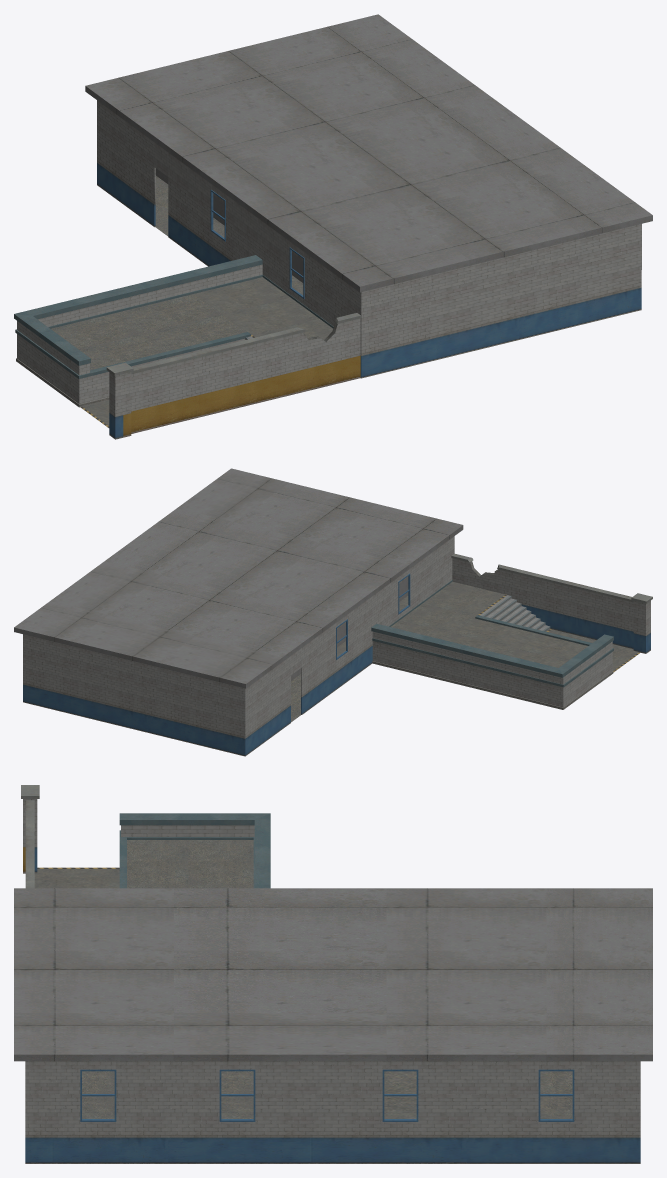
The model's file is Building_Fdc04_2048_lod1.glb.
The picture shows the model from 3 angles, top to bottom: view 1: azimuth 30°, elevation 25°; view 2: azimuth 150°, elevation 25°; view 3: azimuth 270°, elevation 25°; orthographic projection. The views are drawn at different scales.
Visible parts, largest first — view 1: xiutz_fdc_04_lod1; view 2: xiutz_fdc_04_lod1; view 3: xiutz_fdc_04_lod1.
Part boxes in pixels (x1=…): xiutz_fdc_04_lod1: x1=14, y1=14, x2=652, y2=439; xiutz_fdc_04_lod1: x1=14, y1=468, x2=652, y2=756; xiutz_fdc_04_lod1: x1=14, y1=785, x2=652, y2=1163.
Bounding box in the file's own units: 31.29 × 5.42 × 27.8.
1 material, 1 textured.
